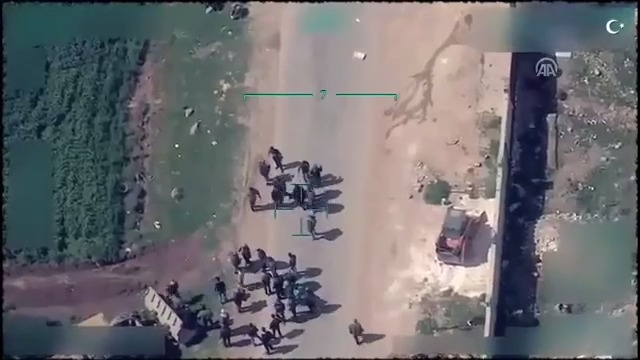insan: (265, 143, 288, 177), (347, 314, 369, 346), (209, 273, 230, 306), (305, 210, 323, 246), (258, 269, 278, 299), (292, 157, 314, 182), (240, 242, 258, 271), (244, 320, 262, 348), (218, 322, 237, 348), (247, 185, 264, 213), (253, 157, 272, 180), (267, 313, 284, 338), (284, 247, 300, 273), (261, 327, 276, 354)
